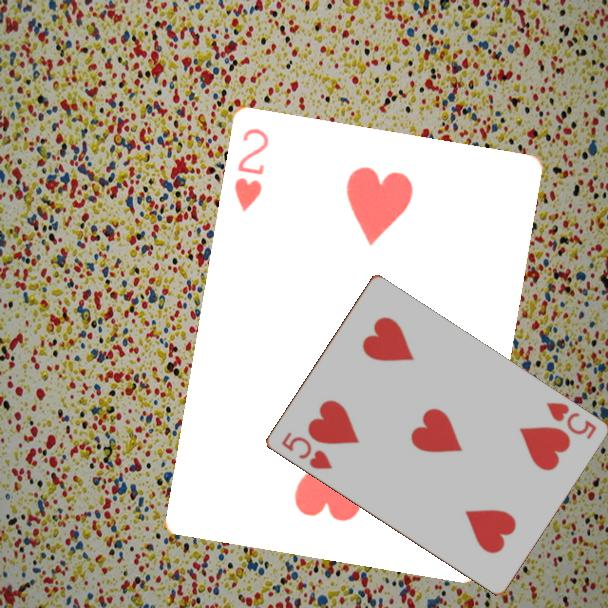h02: (230, 124, 271, 215)
h05: (278, 428, 335, 472), (542, 399, 599, 442)
